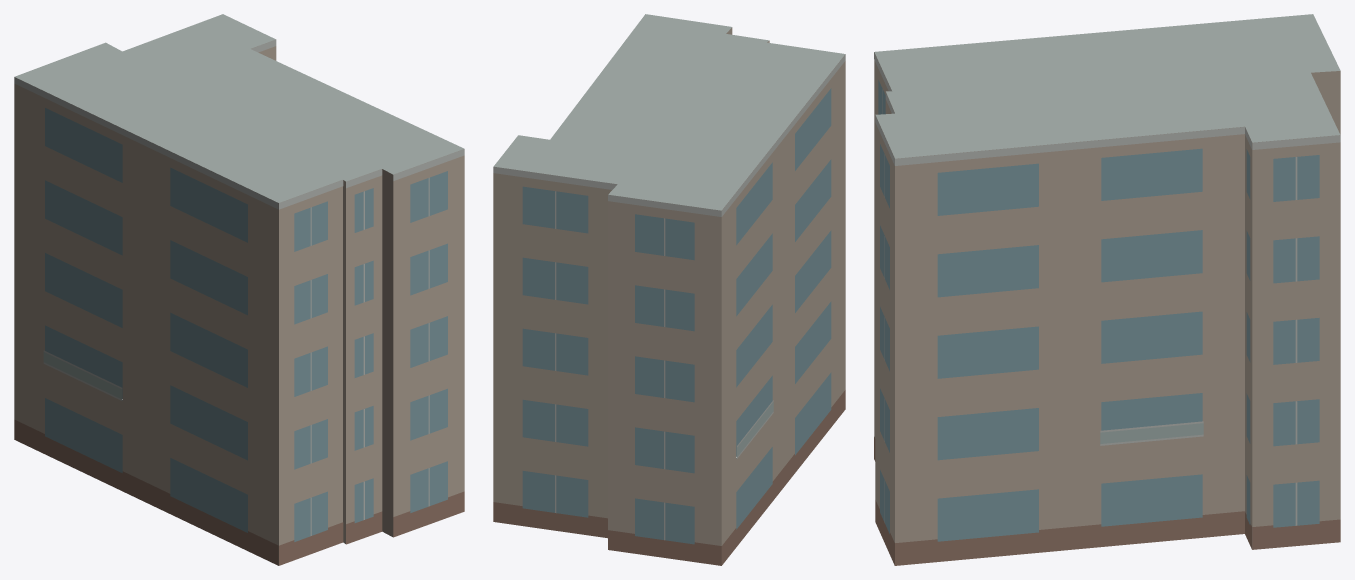
Rendered from survey-upis-32873705.glb.
3 views of the same model, side by side, from view 1: azimuth 30°, elevation 25°; view 2: azimuth 150°, elevation 25°; view 3: azimuth 270°, elevation 25° (orthographic). The views are drawn at different scales.
Visible parts, largest first — view 1: survey-upis-32873705.tmp; view 2: survey-upis-32873705.tmp; view 3: survey-upis-32873705.tmp.
Part boxes in pixels (x1,y1,x2,y2): survey-upis-32873705.tmp: (14,14,464,565); survey-upis-32873705.tmp: (493,14,845,565); survey-upis-32873705.tmp: (874,14,1340,565).
Size of the model in its own units: 10.22 by 13.4 by 13.93.
